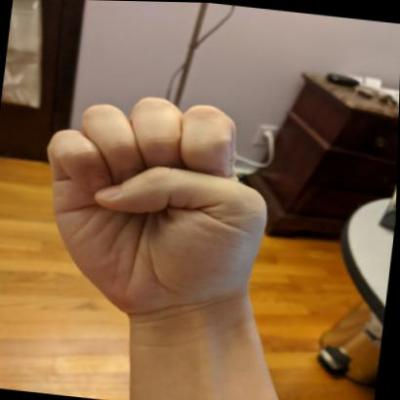hand: (26, 83, 285, 332)
